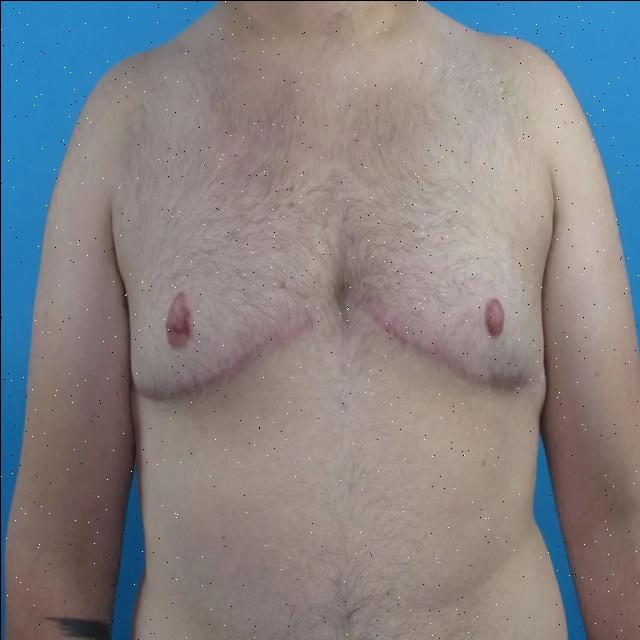Seno herido: (110, 104, 338, 438), (344, 104, 554, 439)
